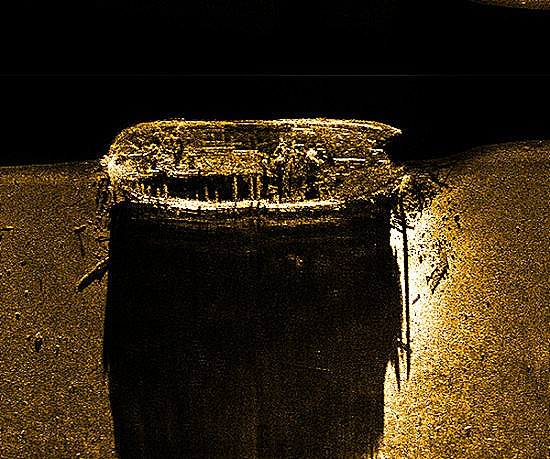ship: (99, 117, 414, 232)
